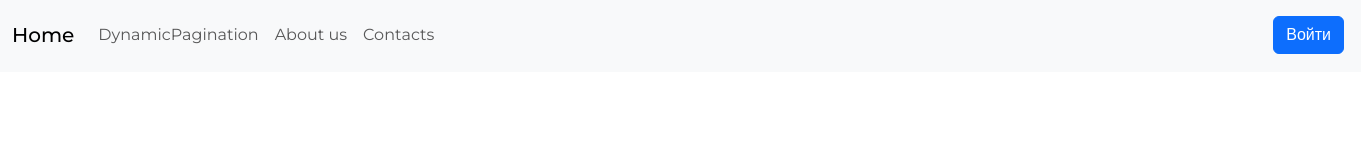
Test: Navbar › отображает ссылку на таблицу при проверке аутентификации
The width and height of the screenshot is (1361, 160).
Check: the text "Table" is not shown
Step 1. Click the button "Войти" → {"x": 1309, "y": 35}, box [1273, 16, 1344, 54]
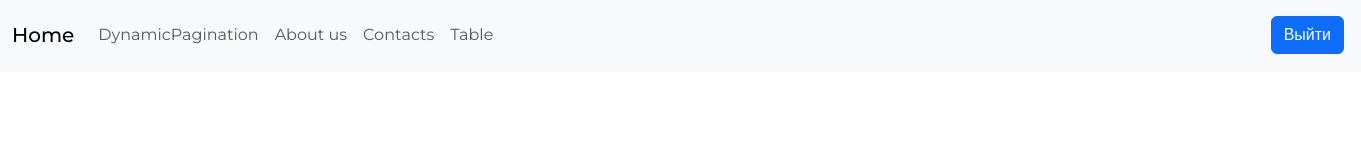
Check: the link "Table" is shown, box [450, 25, 493, 44]
